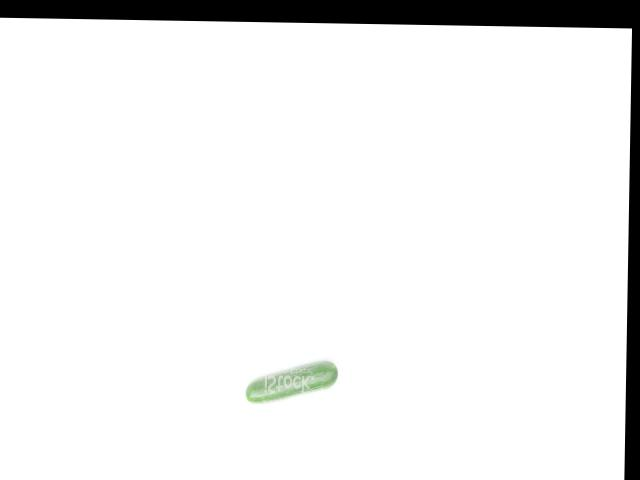cucumber: (245, 359, 339, 404)
